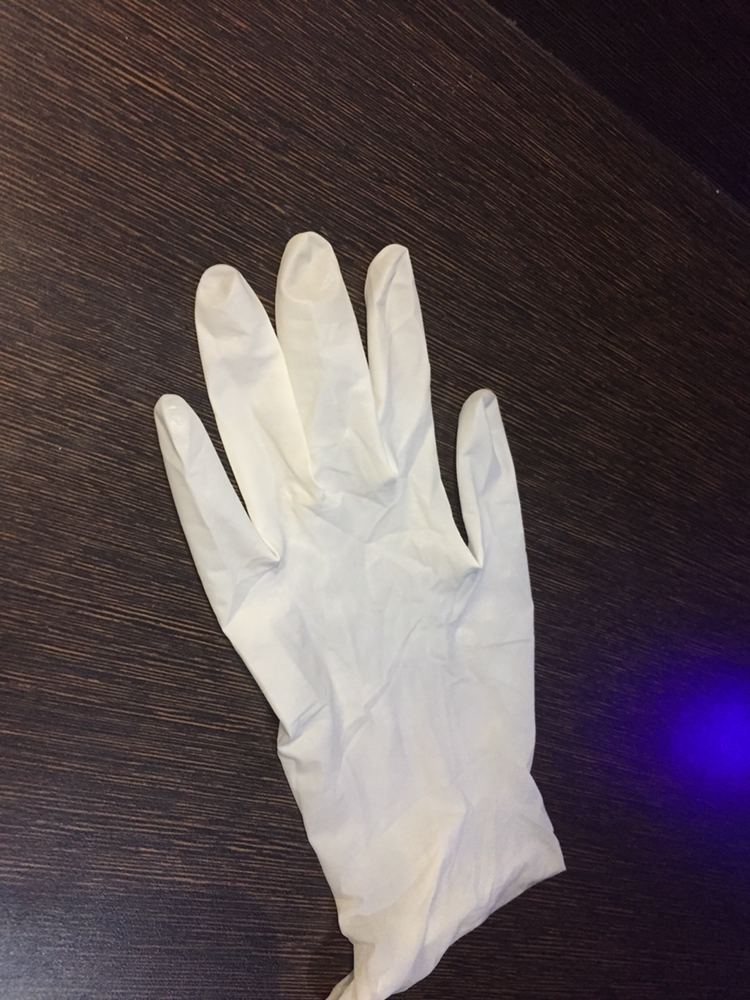glove: (150, 217, 601, 965)
